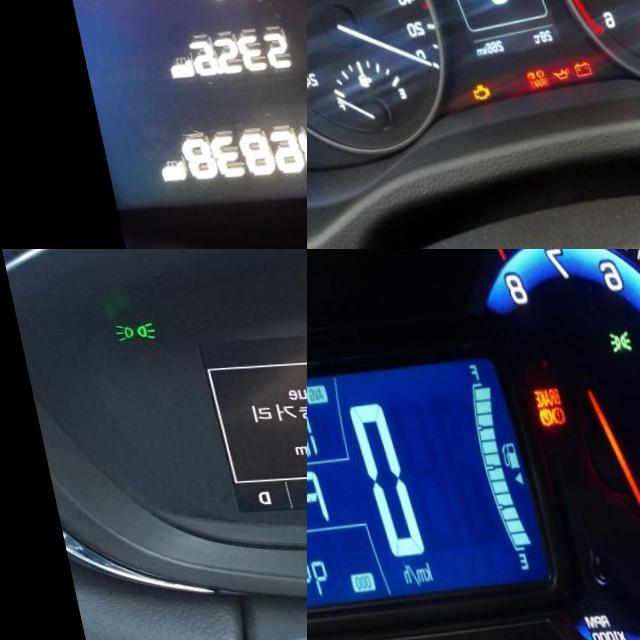SideLamp: (100, 321, 147, 343), (601, 335, 626, 358)
